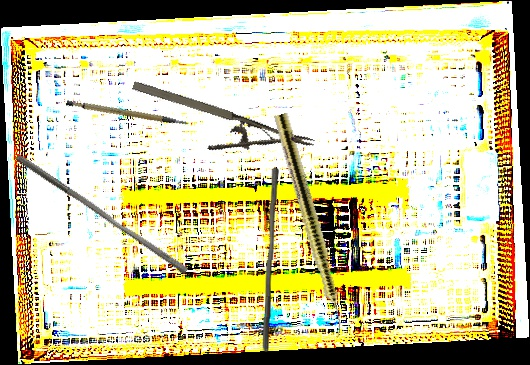Handpiece: (270, 112, 352, 339)
Needle Holder: (121, 75, 316, 183)
Pusher: (10, 152, 193, 276), (261, 167, 280, 353)
Scalpel Handle: (65, 84, 189, 145)
